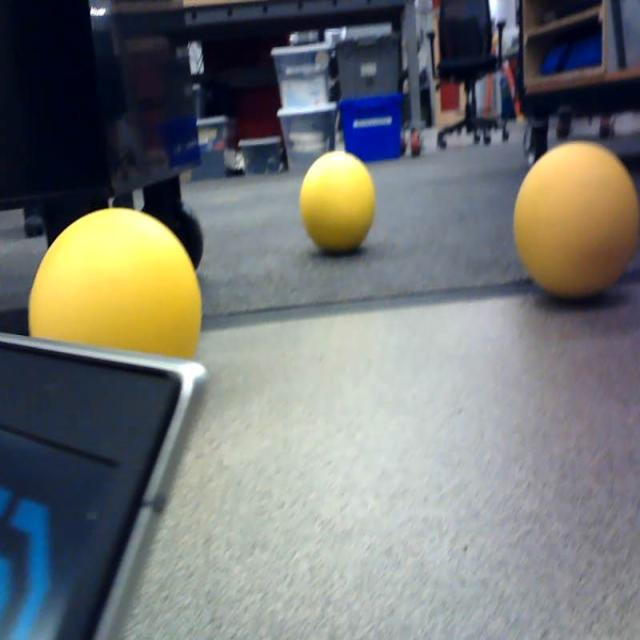Fuel: (30, 208, 201, 404), (514, 142, 637, 304), (301, 152, 376, 252)
